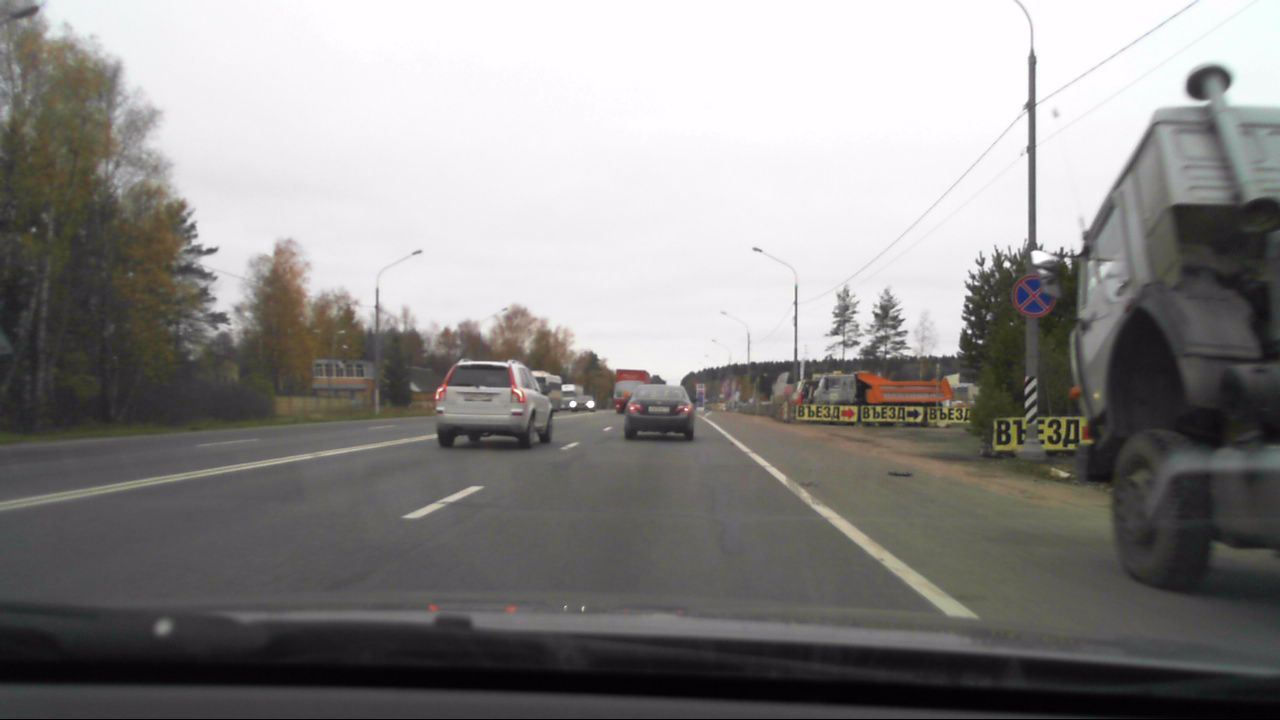No Parking: (1013, 268, 1060, 322)
